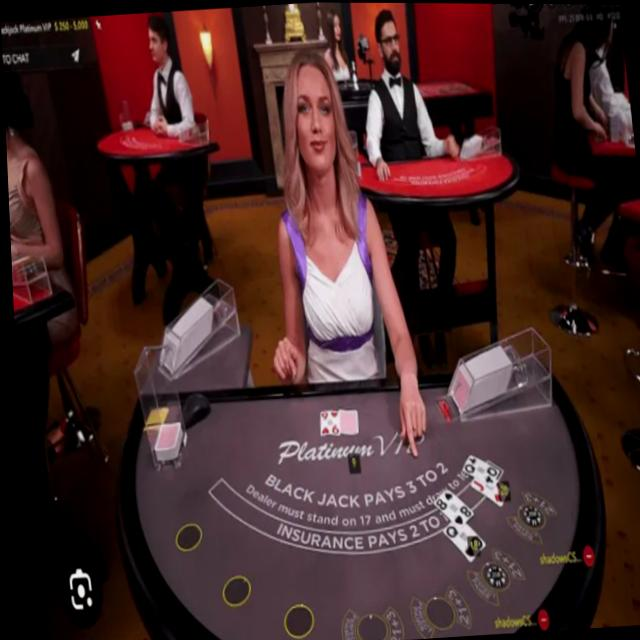Card-8: (428, 487, 469, 527)
Card-9: (316, 409, 336, 435)
Card-J: (466, 477, 505, 506)
Card-Q: (437, 519, 481, 562), (458, 452, 495, 487)
